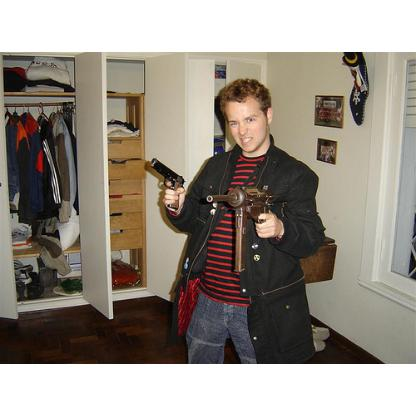gun: (208, 185, 276, 269), (148, 156, 184, 209)
